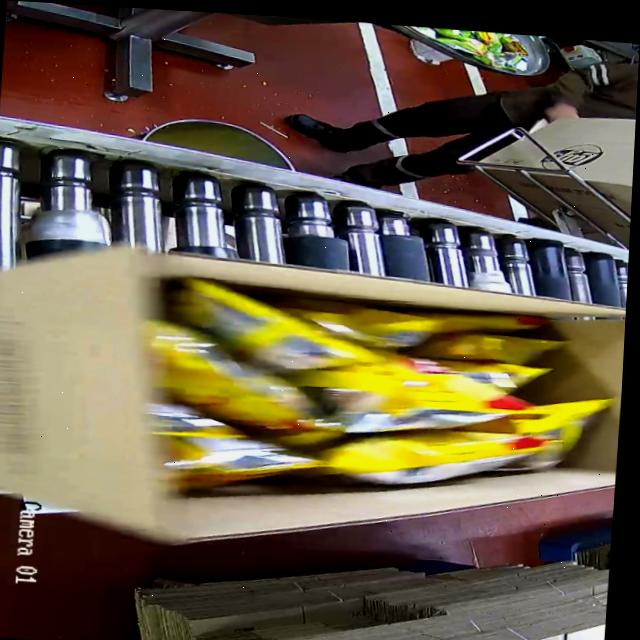SALTED: (144, 272, 606, 527)
